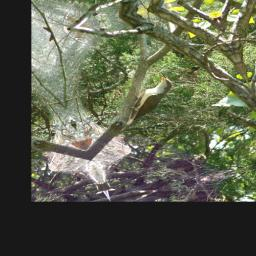Cuckoo: (94, 74, 191, 137)
